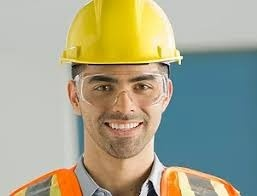helmet: (55, 1, 184, 65)
person with full safety: (6, 1, 241, 195)
safety vest: (11, 170, 237, 195)
